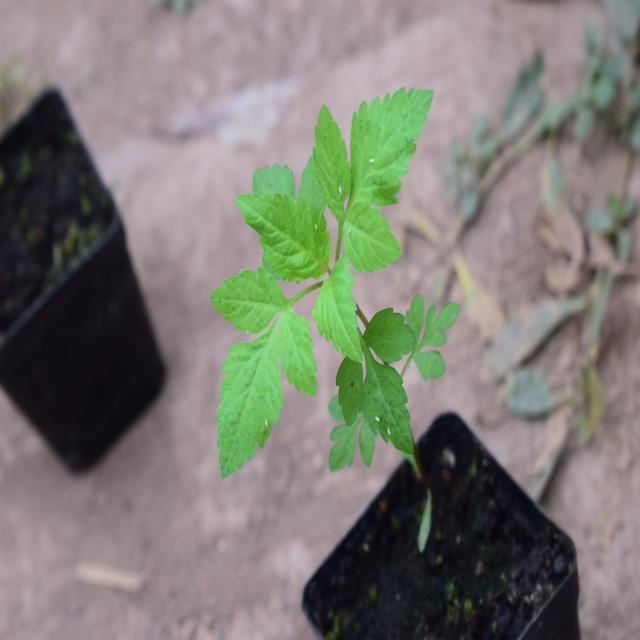Bidens pilosa: (192, 106, 458, 503)
